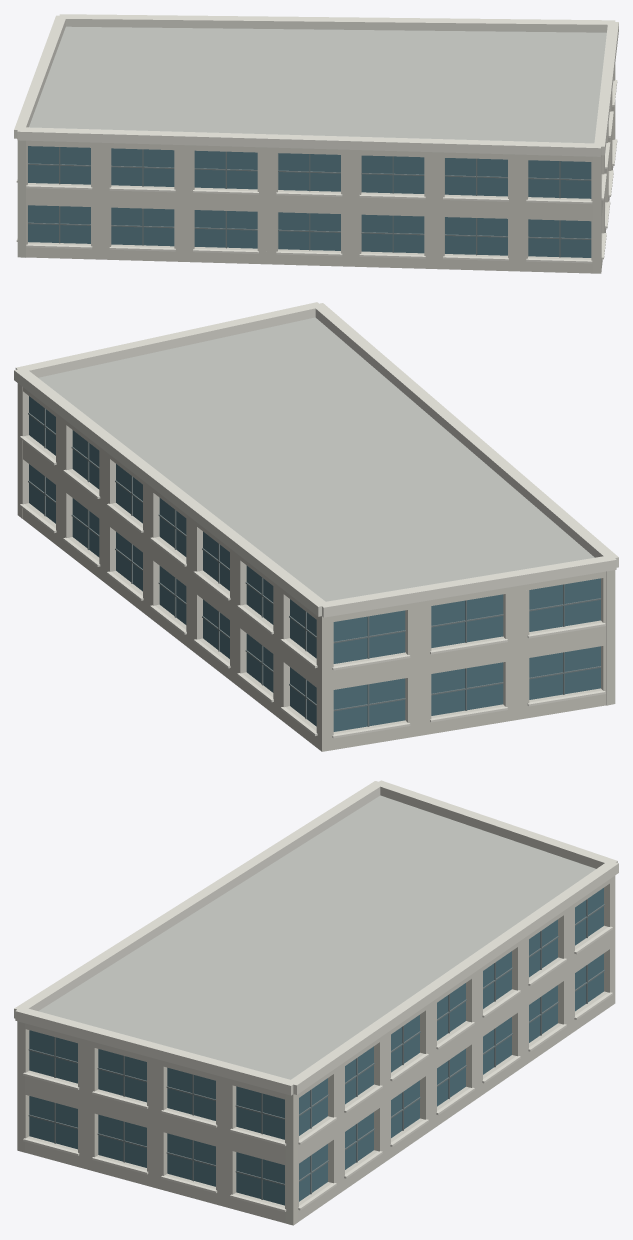
3 views of the same model, one above another, from view 1: azimuth 30°, elevation 25°; view 2: azimuth 150°, elevation 25°; view 3: azimuth 270°, elevation 25° (orthographic). The views are drawn at different scales.
Parts seen in each view (by area): view 1: roof, wall, glass, trim, metal; view 2: roof, wall, glass, trim, metal; view 3: roof, wall, glass, trim, metal.
Part boxes in pixels (x1,y1,x2,y2): roof: (29,26,606,143); wall: (17,65,615,273); glass: (28,146,591,257); trim: (14,14,618,263); metal: (28,147,591,257); roof: (38,317,594,601); wall: (17,383,615,751); glass: (29,396,600,731); trim: (14,302,618,738); metal: (28,408,601,726); roof: (38,795,595,1079); wall: (17,876,615,1225); glass: (29,888,603,1205); trim: (14,780,618,1211); metal: (28,899,604,1199).
Size of the model in its own units: 29.93 by 6.44 by 25.04.
